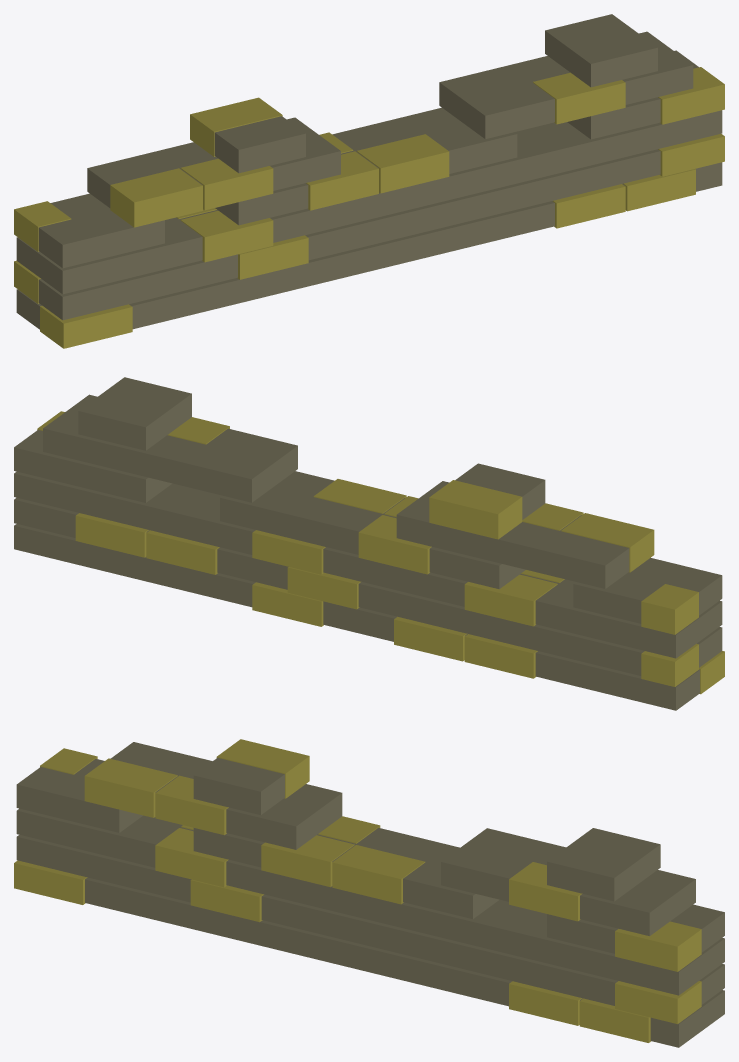
File: SM_MuroSacos_v2_Irregular_e0_Sano_LOD1.fbx
The picture shows the model from 3 angles, top to bottom: view 1: azimuth 30°, elevation 25°; view 2: azimuth 150°, elevation 25°; view 3: azimuth 330°, elevation 25°; orthographic projection.
Parts seen in each view (by area): view 1: SM_bloques.muro_sacos_estados_v8_LOD1; view 2: SM_bloques.muro_sacos_estados_v8_LOD1; view 3: SM_bloques.muro_sacos_estados_v8_LOD1.
Boxes of the visible parts, left/top/right/bottom form: SM_bloques.muro_sacos_estados_v8_LOD1: left=14, top=14, right=724, bottom=348; SM_bloques.muro_sacos_estados_v8_LOD1: left=14, top=377, right=724, bottom=710; SM_bloques.muro_sacos_estados_v8_LOD1: left=14, top=739, right=724, bottom=1047.
Size of the model in its own units: 7.98 by 1.79 by 1.04.
